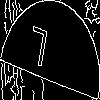L: (25, 25, 49, 77)
